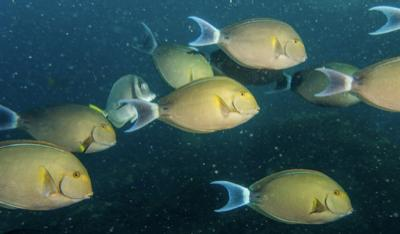Acanthuridae -Surgeonfishes-: (114, 73, 262, 136), (205, 162, 357, 222), (129, 17, 218, 98), (188, 12, 312, 70), (0, 135, 97, 206), (0, 100, 118, 151), (313, 51, 398, 114)
